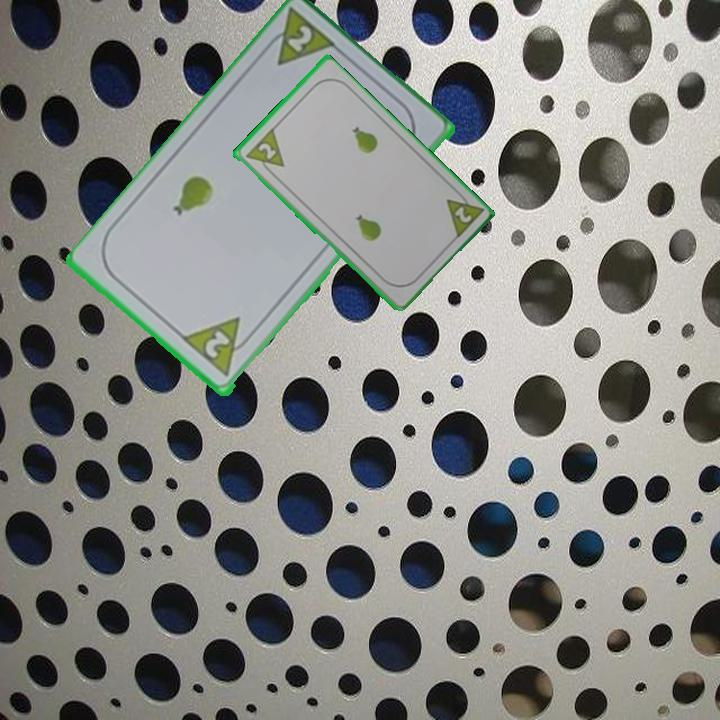2p: (258, 6, 342, 70), (241, 125, 287, 179), (200, 327, 234, 362), (450, 202, 475, 226)
